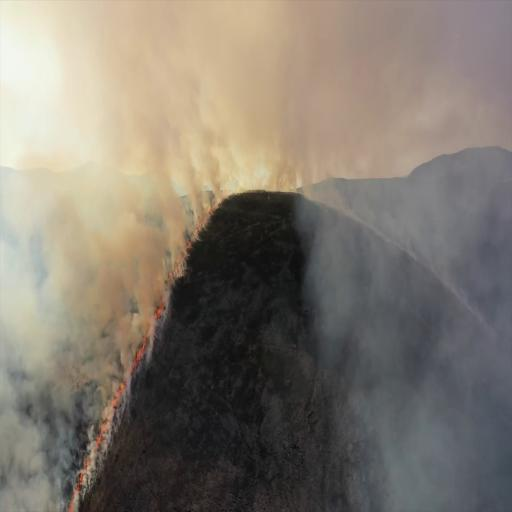smoke: (305, 183, 512, 512), (50, 176, 189, 356), (264, 152, 298, 194), (192, 165, 215, 226)
